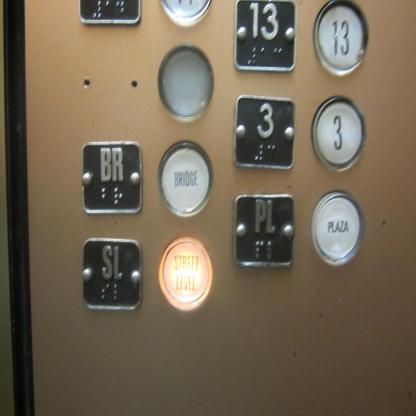13: (231, 0, 299, 73), (313, 1, 368, 79)
3: (232, 92, 298, 172), (310, 93, 368, 173)
BR: (80, 138, 144, 215)
PL: (232, 192, 298, 271)
SL: (80, 234, 144, 314)
empty: (156, 41, 216, 122)
text_bridge: (156, 233, 215, 314)
text_plaza: (310, 188, 365, 270)
text_street: (154, 138, 216, 219)
